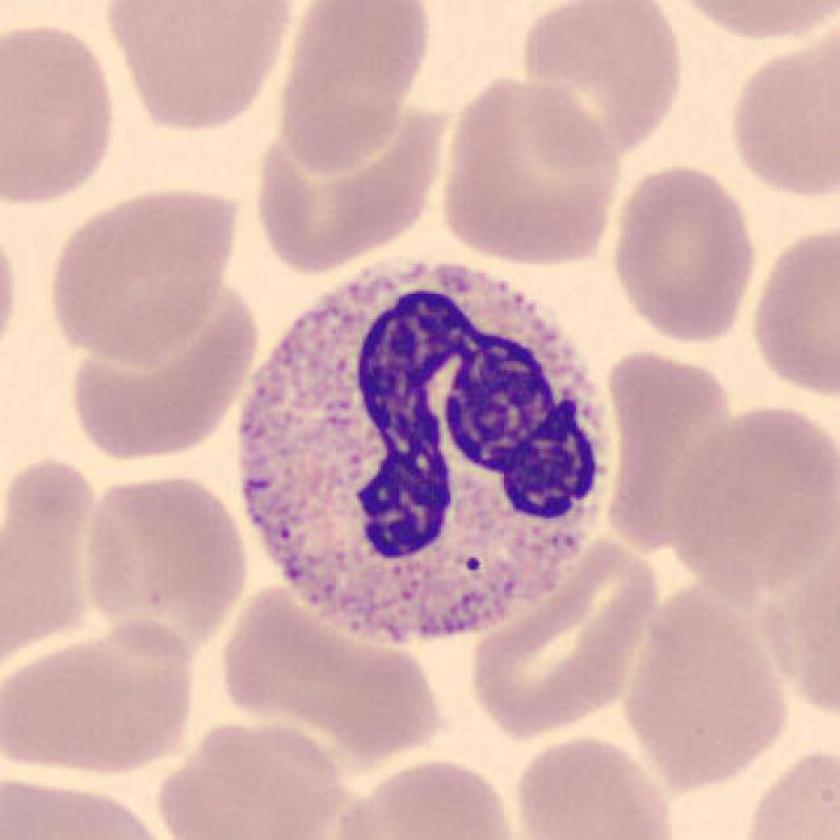neutrophil: (241, 264, 614, 640)
